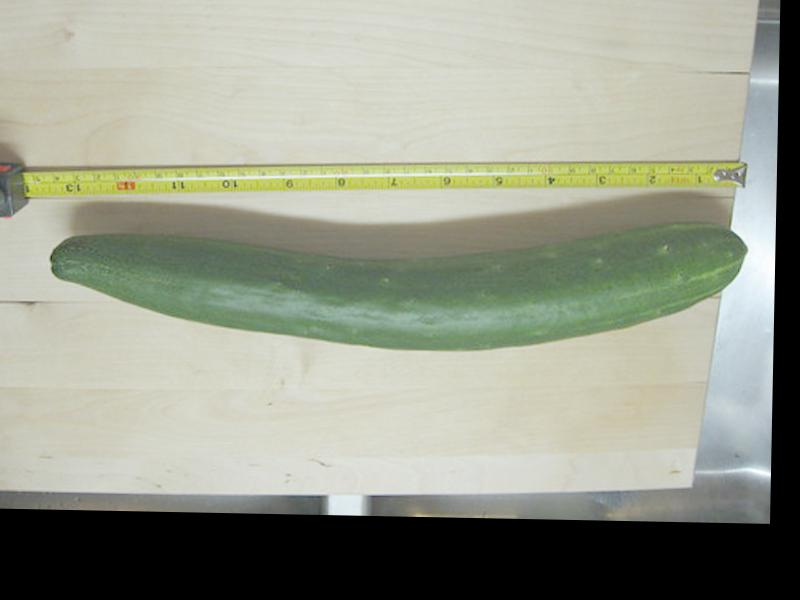Cucumber: (48, 208, 748, 356)
